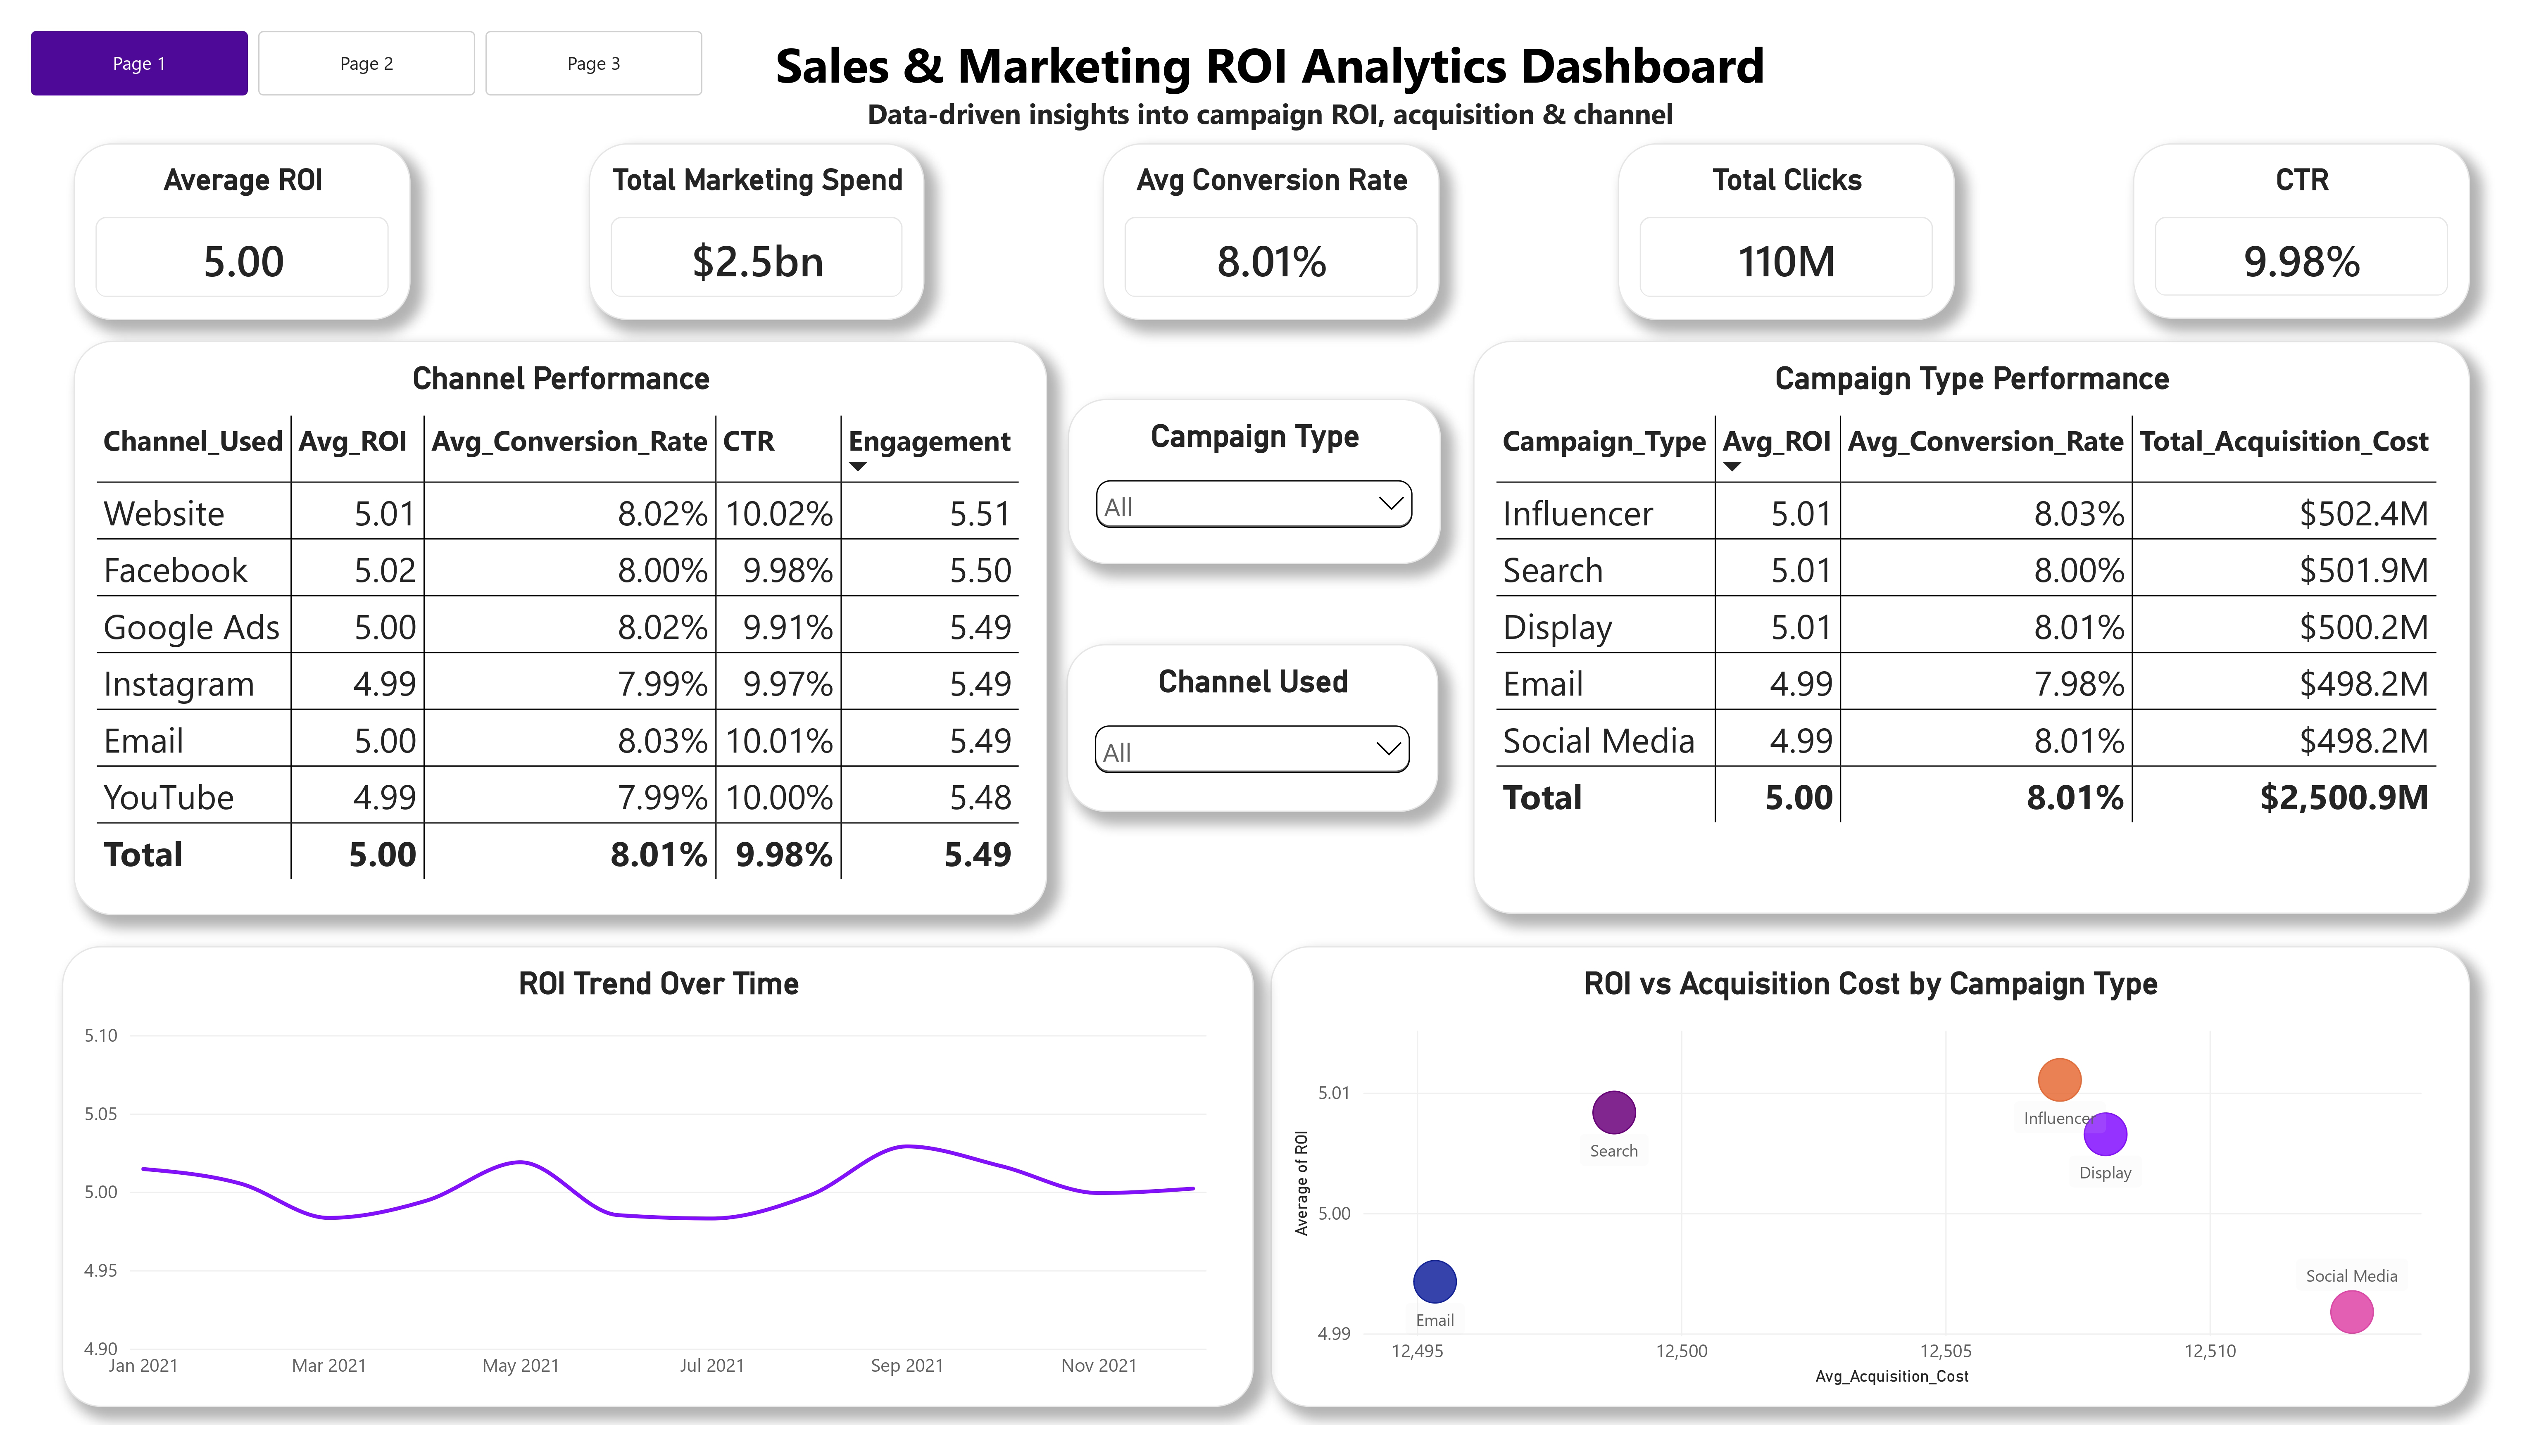

The page's visual inventory and layout, read from the dashboard file:
{"tool":"powerbi","page":{"name":"Page 1","canvas":[1920,1080],"ordinal":0},"visuals":[{"type":"cardVisual","title":"Average ROI","fields":{"Data":["_Measure.Avg_ROI"]},"box":[33,86.9,260.7,136.7],"z":0},{"type":"cardVisual","title":"Avg Conversion Rate","fields":{"Data":["_Measure.Avg_Conversion_Rate"]},"box":[830.4,87,260.7,136.7],"z":1000},{"type":"cardVisual","title":"Total Clicks","fields":{"Data":["_Measure.Total_Clicks"]},"box":[1229,87,260.7,136.7],"z":2000},{"type":"cardVisual","title":"Total Marketing Spend","fields":{"Data":["_Measure.Total_Acquisition_Cost"]},"box":[431.7,86.9,260.7,136.7],"z":3000},{"type":"slicer","title":"Channel Used","fields":{"Values":["marketing_campaign_dataset.Channel_Used"]},"box":[801.7,475,288.3,130],"z":4000},{"type":"slicer","title":"Campaign Type","fields":{"Values":["marketing_campaign_dataset.Campaign_Type"]},"box":[803.3,285,288.3,128.3],"z":5000},{"type":"textbox","box":[0,0,1920,80],"z":6000},{"type":"scatterChart","title":"ROI vs Acquisition Cost by Campaign Type","fields":{"Series":["marketing_campaign_dataset.Campaign_Type"],"Size":["_Measure.Total_Clicks"],"X":["_Measure.Avg_Acquisition_Cost"],"Y":["Avg(marketing_campaign_dataset.ROI)"]},"box":[960,708.6,928.6,357.1],"z":7000},{"type":"lineChart","title":"ROI Trend Over Time","fields":{"Category":["marketing_campaign_dataset.Date.Variation.Date Hierarchy.Year","marketing_campaign_dataset.Date.Variation.Date Hierarchy.Month"],"Y":["_Measure.Avg_ROI"]},"box":[24.3,708.6,922.9,357.1],"z":8000},{"type":"tableEx","title":"Channel Performance","fields":{"Values":["marketing_campaign_dataset.Channel_Used","_Measure.Avg_ROI","_Measure.Avg_Conversion_Rate","_Measure.CTR","Avg(marketing_campaign_dataset.Engagement_Score)"]},"box":[33.3,240,753.3,445],"z":9000},{"type":"tableEx","title":"Campaign Type Performance","fields":{"Values":["marketing_campaign_dataset.Campaign_Type","_Measure.Avg_ROI","_Measure.Avg_Conversion_Rate","_Measure.Total_Acquisition_Cost"]},"box":[1117.1,240,771.4,444.3],"z":10000},{"type":"cardVisual","title":"CTR","fields":{"Data":["_Measure.CTR"]},"box":[1627.7,86.9,260.8,136.4],"z":11000},{"type":"pageNavigator","box":[0,0,520,50],"z":12000}]}

Visuals, with their boxes on the page's 1920x1080 design canvas (x1, y1, x2, y2). These are canvas units, not pixel positions in the 2541x1456 screenshot, which may show the page scaled, cropped or inside an application window:
"Average ROI" cardVisual: {"left": 33, "top": 87, "right": 294, "bottom": 224}
"Avg Conversion Rate" cardVisual: {"left": 830, "top": 87, "right": 1091, "bottom": 224}
"Total Clicks" cardVisual: {"left": 1229, "top": 87, "right": 1490, "bottom": 224}
"Total Marketing Spend" cardVisual: {"left": 432, "top": 87, "right": 692, "bottom": 224}
"Channel Used" slicer: {"left": 802, "top": 475, "right": 1090, "bottom": 605}
"Campaign Type" slicer: {"left": 803, "top": 285, "right": 1092, "bottom": 413}
textbox: {"left": 0, "top": 0, "right": 1920, "bottom": 80}
"ROI vs Acquisition Cost by Campaign Type" scatterChart: {"left": 960, "top": 709, "right": 1889, "bottom": 1066}
"ROI Trend Over Time" lineChart: {"left": 24, "top": 709, "right": 947, "bottom": 1066}
"Channel Performance" tableEx: {"left": 33, "top": 240, "right": 787, "bottom": 685}
"Campaign Type Performance" tableEx: {"left": 1117, "top": 240, "right": 1888, "bottom": 684}
"CTR" cardVisual: {"left": 1628, "top": 87, "right": 1888, "bottom": 223}
pageNavigator: {"left": 0, "top": 0, "right": 520, "bottom": 50}
